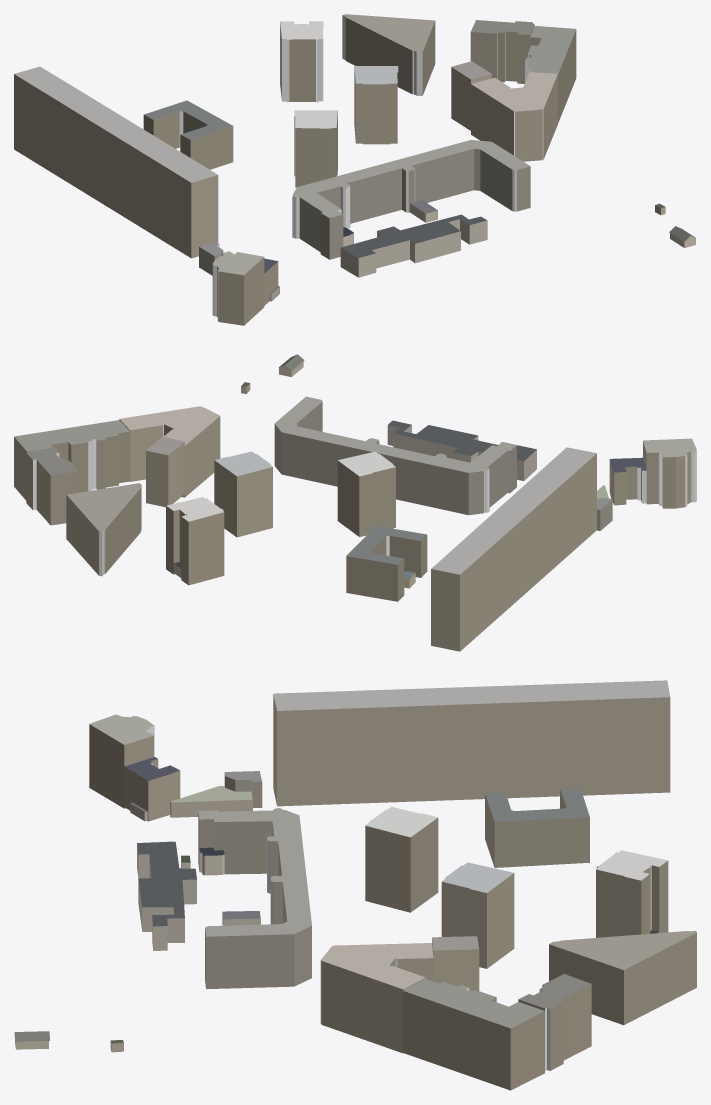
3 views of the same model, one above another, from view 1: azimuth 30°, elevation 25°; view 2: azimuth 150°, elevation 25°; view 3: azimuth 270°, elevation 25° (orthographic). The views are drawn at different scales.
Parts seen in each view (by area): view 1: tuile; view 2: tuile; view 3: tuile.
Boxes of the visible parts, x1,y1,x2,y2 form: tuile: (14,14,695,325); tuile: (14,354,696,651); tuile: (14,680,696,1090).
Bounding box in the file's own units: 281 × 44.68 × 256.
